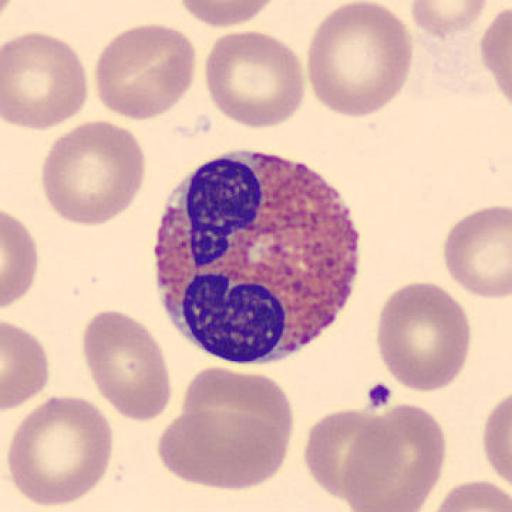RBC: (160, 366, 294, 492), (305, 0, 413, 118), (7, 394, 115, 509), (40, 118, 146, 228), (341, 403, 447, 512), (374, 280, 472, 394), (156, 408, 289, 490), (80, 308, 173, 423), (203, 28, 306, 131), (94, 22, 198, 122), (2, 29, 90, 132), (303, 406, 384, 504), (442, 203, 512, 301), (410, 0, 490, 61), (2, 319, 52, 413), (2, 208, 39, 311), (479, 3, 512, 108), (482, 392, 512, 502), (410, 0, 490, 38), (177, 0, 278, 28), (434, 478, 512, 512), (410, 0, 490, 27)
WBC: (152, 155, 363, 365)
